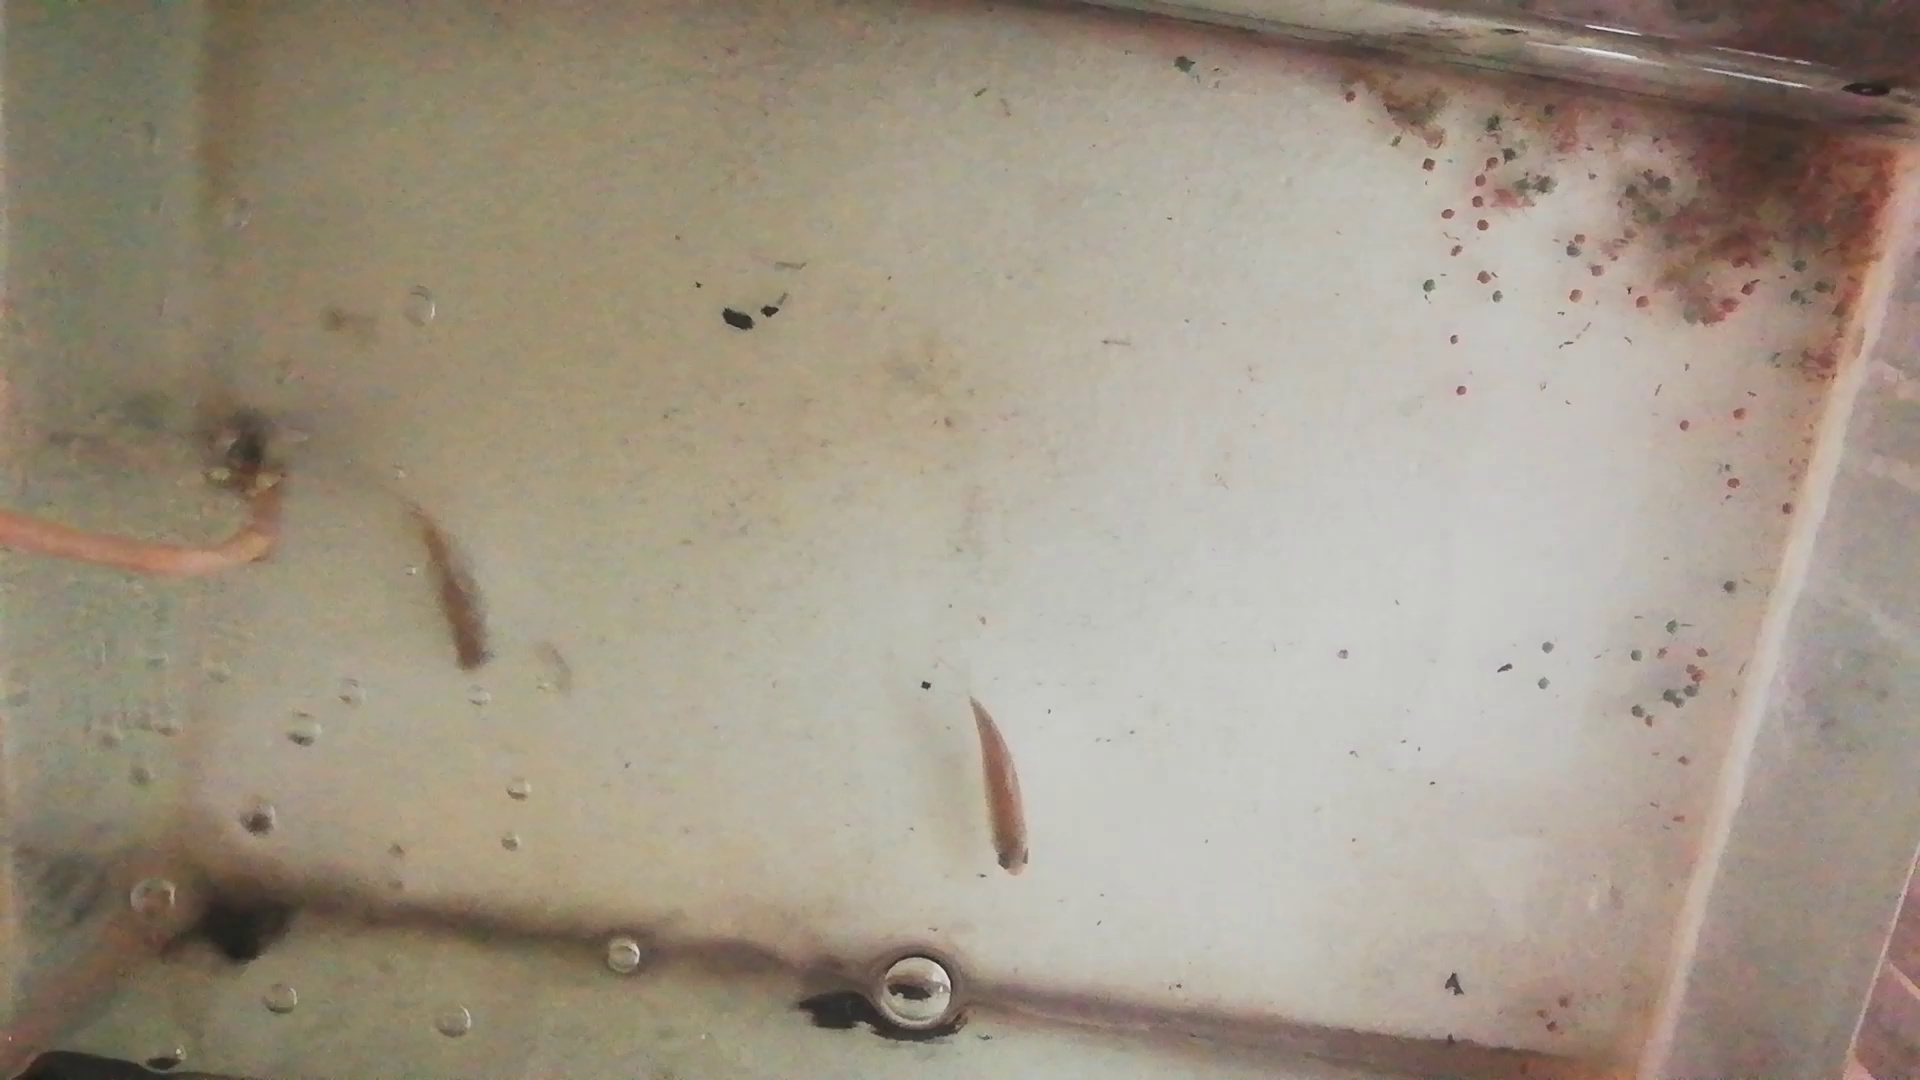fish: (404, 505, 502, 674), (967, 692, 1034, 876)
